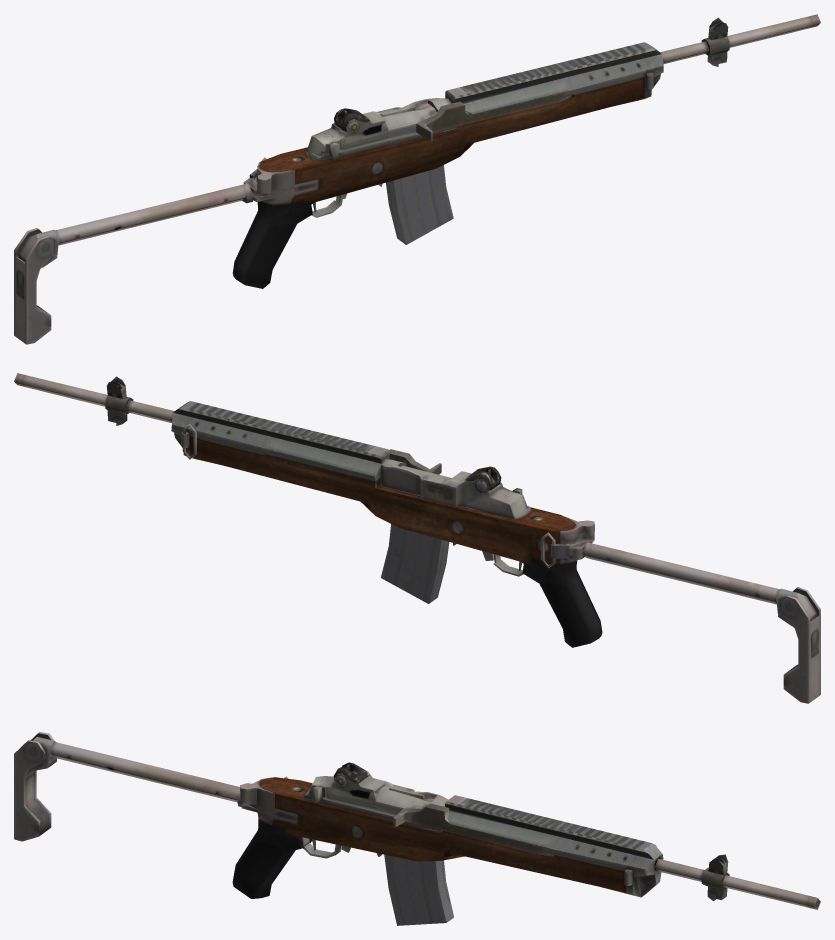
File: ST_WEP_Mini14_Lod.FBX
3 views of the same model, one above another, from view 1: azimuth 30°, elevation 25°; view 2: azimuth 150°, elevation 25°; view 3: azimuth 330°, elevation 25° (orthographic).
Parts seen in each view (by area): view 1: ST_WEP_Mini14_Lod; view 2: ST_WEP_Mini14_Lod; view 3: ST_WEP_Mini14_Lod.
Boxes of the visible parts, bbox=[...] form: ST_WEP_Mini14_Lod: bbox=[14, 14, 820, 344]; ST_WEP_Mini14_Lod: bbox=[14, 373, 820, 703]; ST_WEP_Mini14_Lod: bbox=[14, 732, 820, 925].
Bounding box in the file's own units: 90.23 × 16.66 × 6.16.
Materials: 1 (1 with a texture image).
